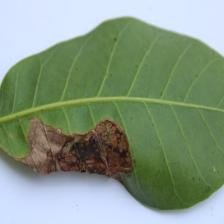leaf miner: (15, 114, 138, 178)
